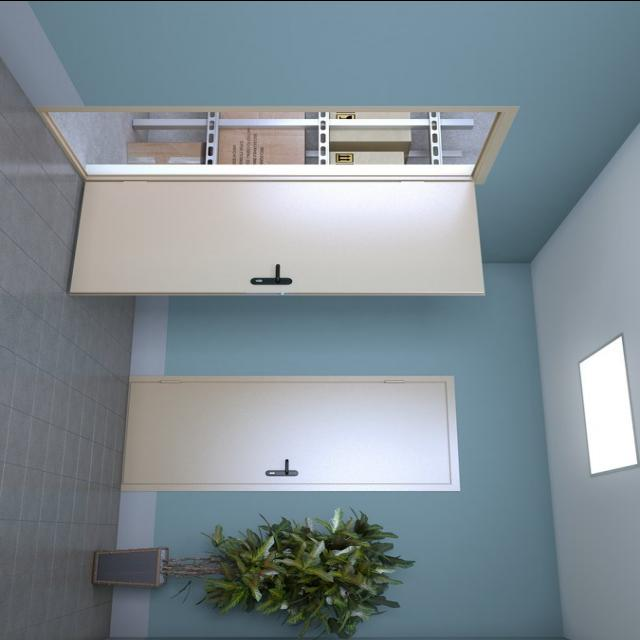close: (130, 374, 452, 486)
open: (54, 103, 482, 300)
